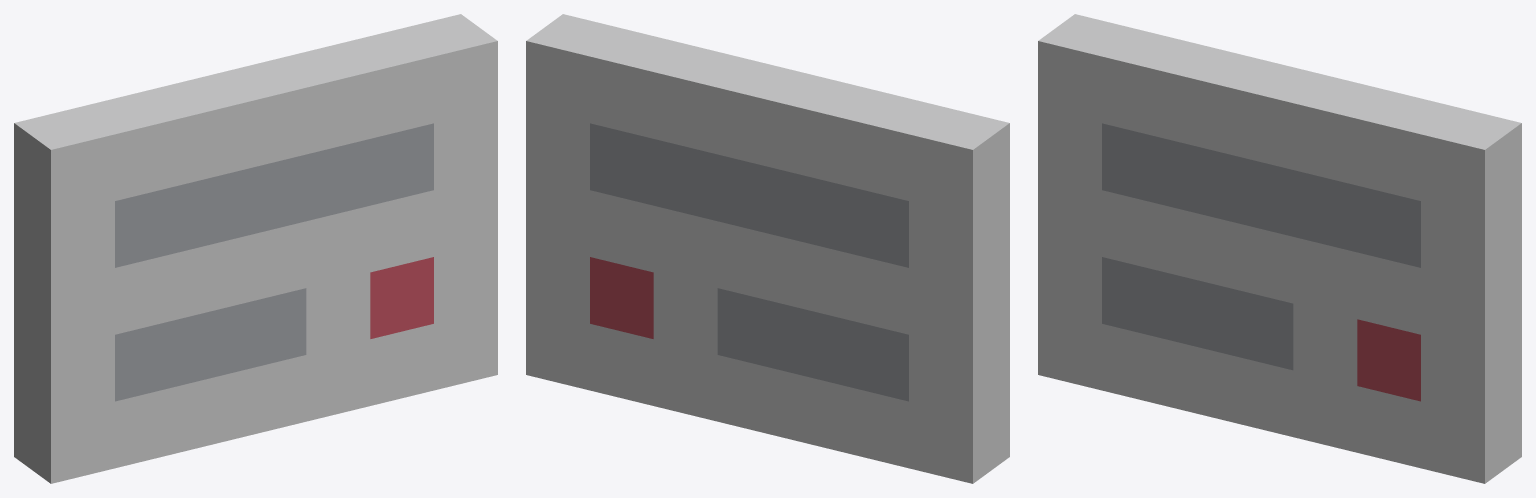
File: lettre_menaces.glb
3 views of the same model, side by side, from view 1: azimuth 30°, elevation 25°; view 2: azimuth 150°, elevation 25°; view 3: azimuth 330°, elevation 25° (orthographic).
Visible parts, largest first — view 1: main; view 2: main; view 3: main.
Boxes of the visible parts, bbox=[...] form: main: bbox=[14, 14, 497, 483]; main: bbox=[526, 14, 1009, 483]; main: bbox=[1038, 14, 1521, 483].
Size of the model in its own units: 0.4375 by 0.3125 by 0.0625.
